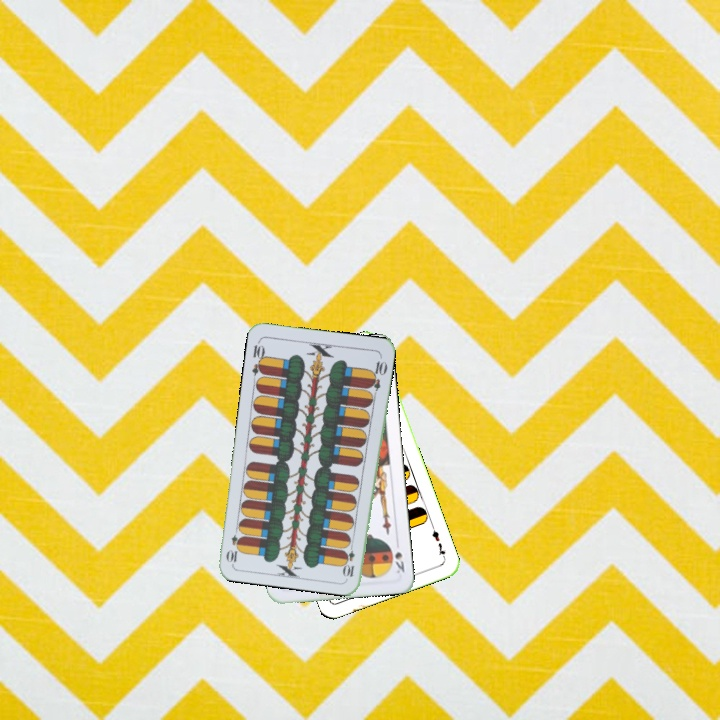E10: (248, 337, 268, 377), (341, 539, 358, 579)
E7: (428, 522, 448, 562)
SK: (391, 548, 407, 576)
